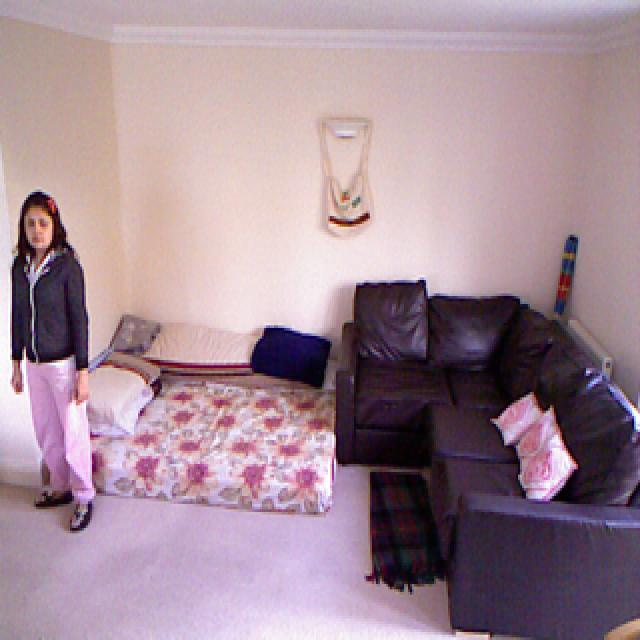standing: (7, 187, 102, 558)
